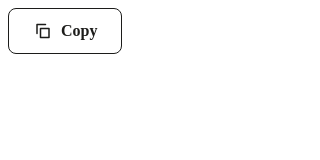
CopyButton › copies its value and reports success with the copied value
Click the button "Copy" at [65, 31], box [8,8,122,54]
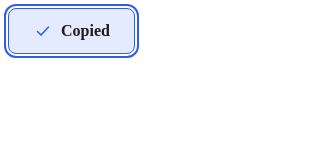
Check: the button "Copied" has attribute data-status="copied", box [8,8,135,54]
